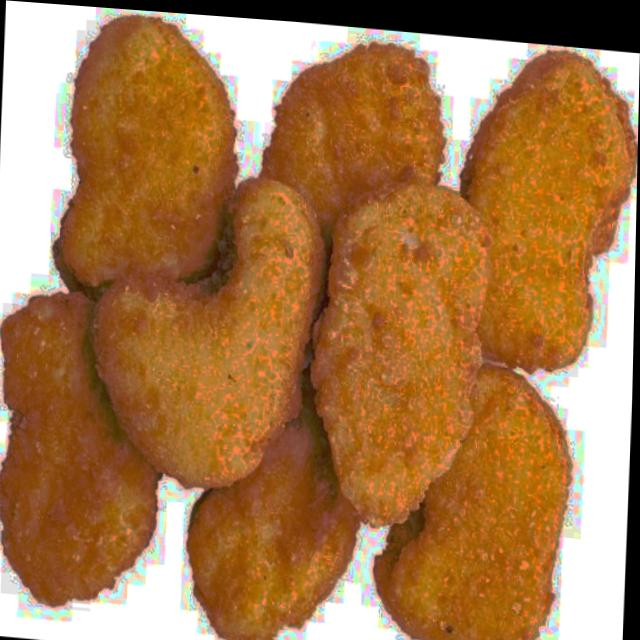chicken_nuggets: (77, 147, 326, 514), (308, 172, 502, 557), (447, 40, 640, 402), (41, 4, 252, 327), (0, 281, 172, 628), (372, 359, 582, 640), (183, 388, 365, 640), (254, 33, 463, 231)
